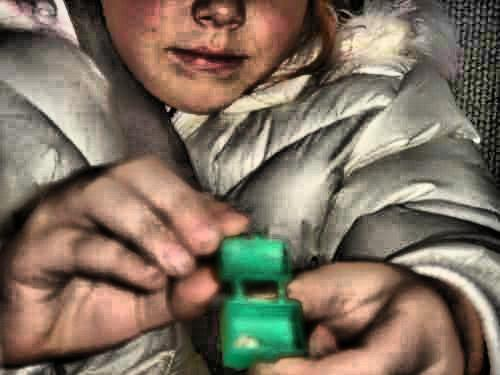seatbelt: (75, 28, 248, 288)
